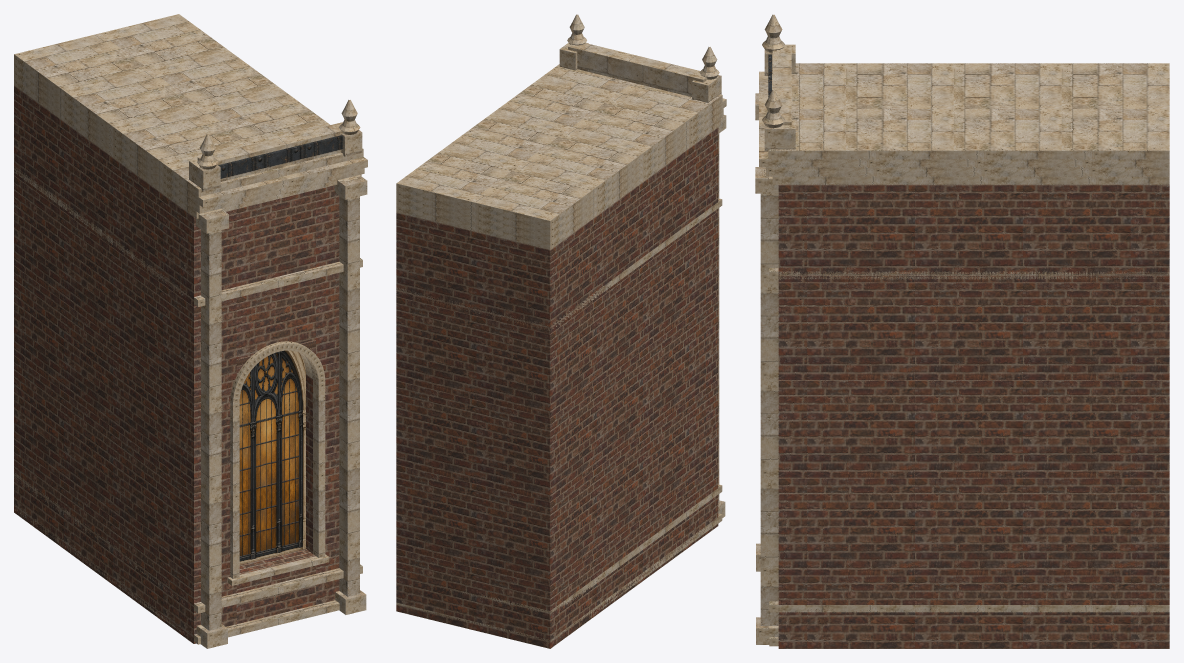
Rendered from facade_bay.glb.
3 renders of one model, left to right at view 1: azimuth 30°, elevation 25°; view 2: azimuth 150°, elevation 25°; view 3: azimuth 270°, elevation 25°, orthographic. The views are drawn at different scales.
Parts seen in each view (by area): view 1: facade_bay; view 2: facade_bay; view 3: facade_bay.
Part boxes in pixels (bbox=[...]): facade_bay: bbox=[14, 14, 367, 648]; facade_bay: bbox=[396, 14, 726, 648]; facade_bay: bbox=[755, 14, 1169, 648].
Size of the model in its own units: 4 by 11.79 by 8.
4 materials, 4 textured.
